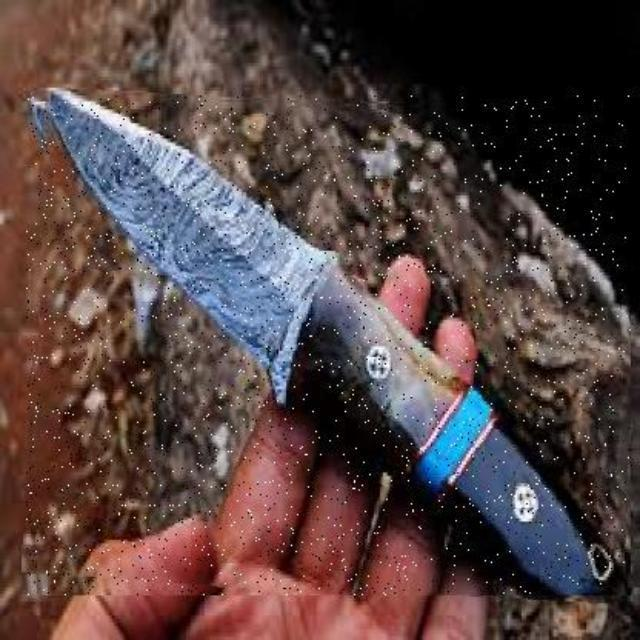Knife: (26, 95, 630, 595)
